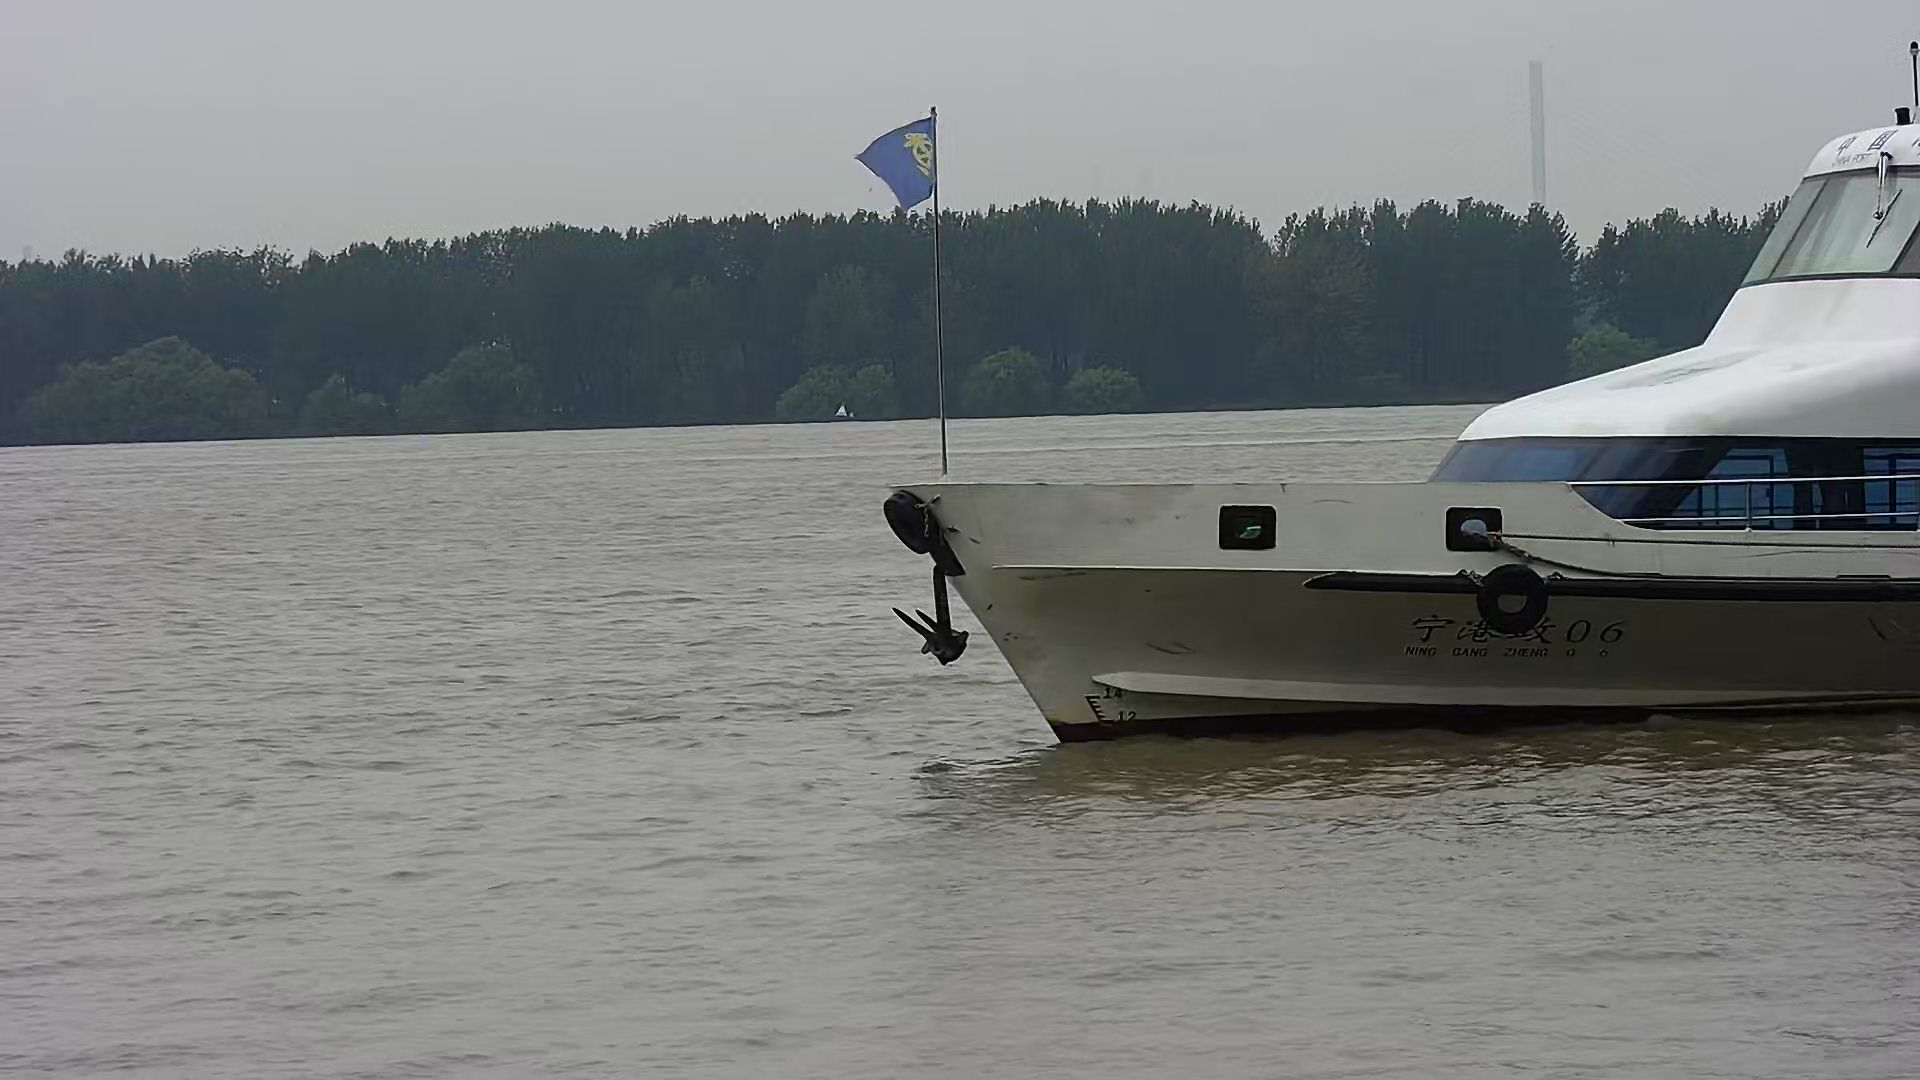ship: (855, 38, 1920, 742)
